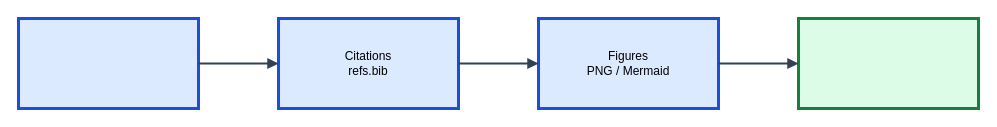
Some shapes in this 997 by 127 pixel diagram are drawn without their labels. Each missing label, with the centre of its shape:
"Draft Markdown" goes at (x=108, y=63).
"Output docx" goes at (x=888, y=63).
